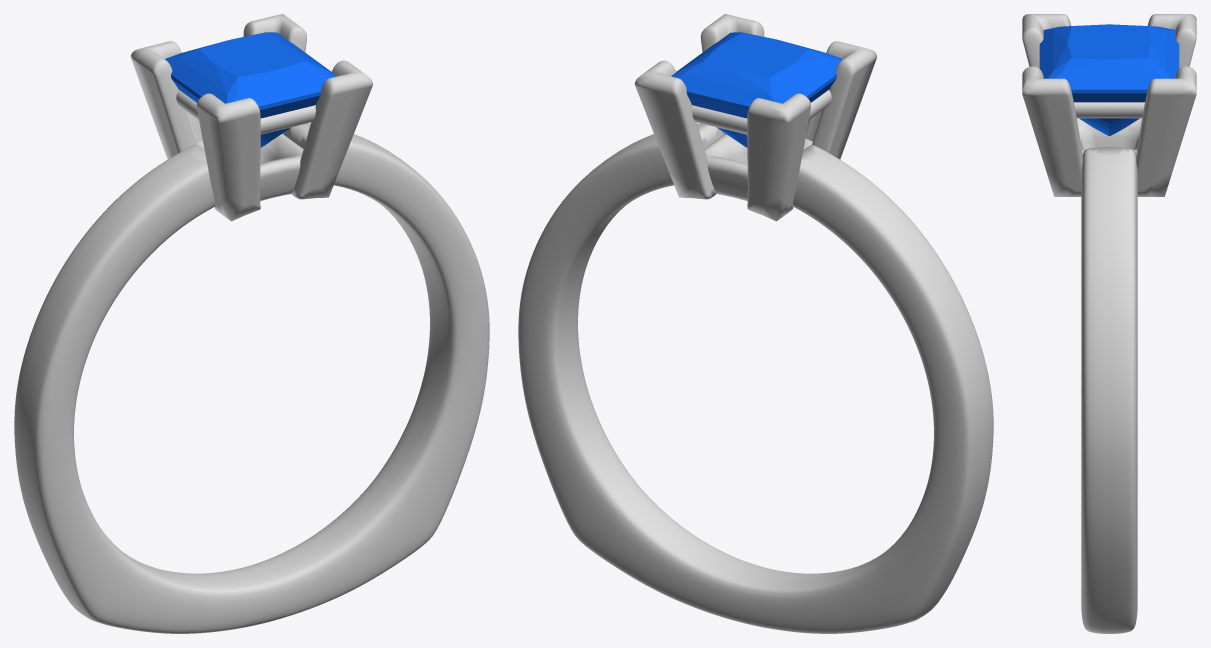
Rendered from bluesapphire-princess-platinum-protectededges4prongs-europeanshank-solitaire.glb.
3 renders of one model, left to right at view 1: azimuth 30°, elevation 25°; view 2: azimuth 150°, elevation 25°; view 3: azimuth 270°, elevation 25°, orthographic.
Visible parts, largest first — view 1: metal, stone; view 2: metal, stone; view 3: metal, stone.
Part boxes in pixels (x1,y1,x2,y2): metal: (14,14,489,633); stone: (165,32,336,147); metal: (518,14,993,633); stone: (671,32,842,147); metal: (1022,14,1196,633); stone: (1039,24,1179,136).
Size of the model in its own units: 20.11 by 23.65 by 6.77.
